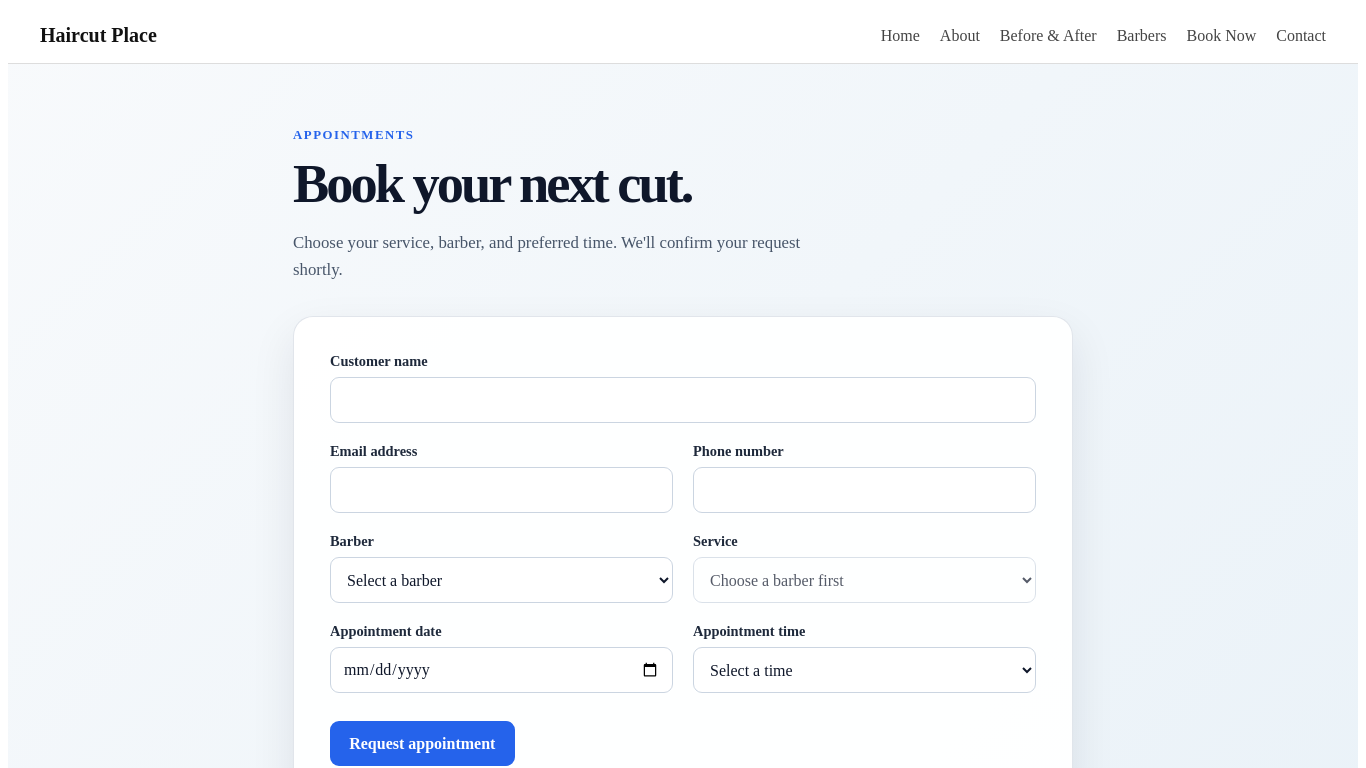
Test: BookNowPage › shows validation errors when fields are empty
The width and height of the screenshot is (1366, 768).
Click the button "Request appointment". click: (422, 744)
box: [330,721,515,766]
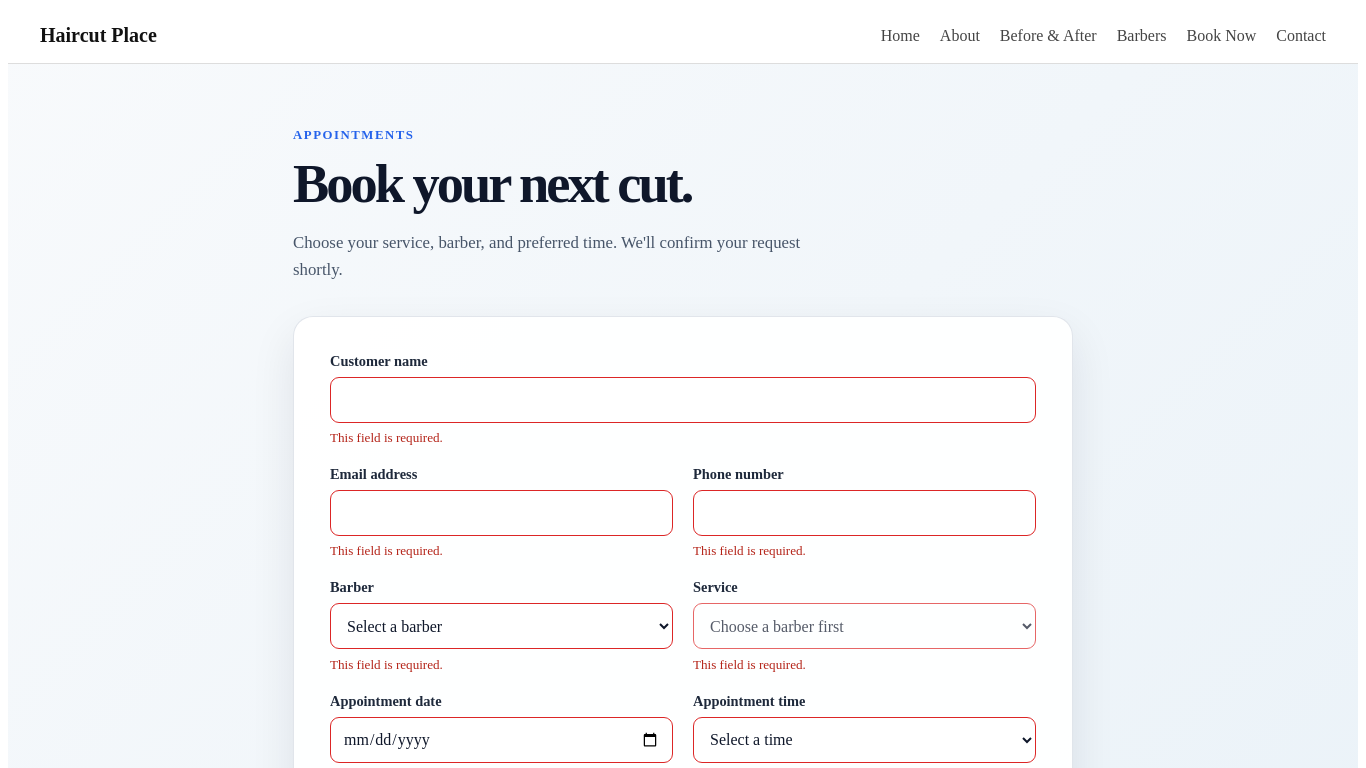
Now the text "This field is required." is shown 7 times
